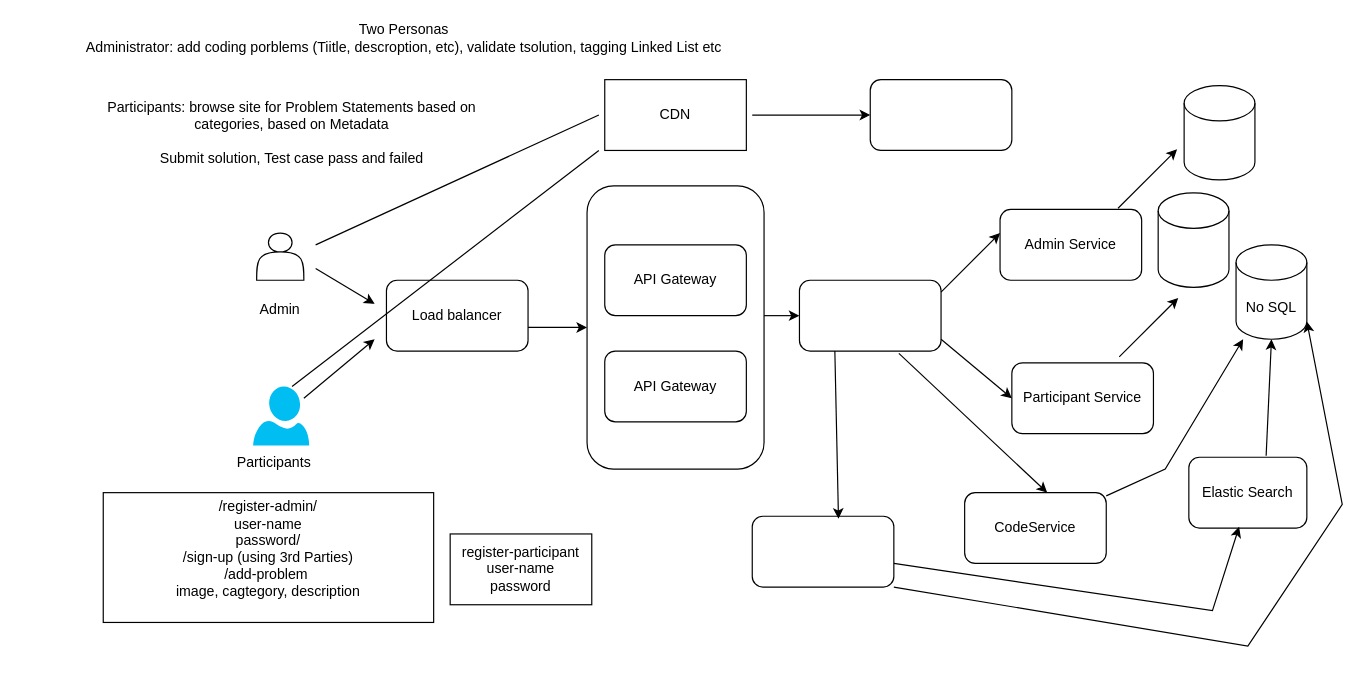
Image size: 1372x676. Some labels were removed from this diagram. Here are the shapes that lost their labels. From the top down, the centre of each, then its label:
At pixel 940 114: "Blockserver".
At pixel 1219 132: "Admin Details RDBMS".
At pixel 1193 239: "Participant details RDBMS".
At pixel 869 315: "Metadasta Server".
At pixel 822 551: "ProblermService".
